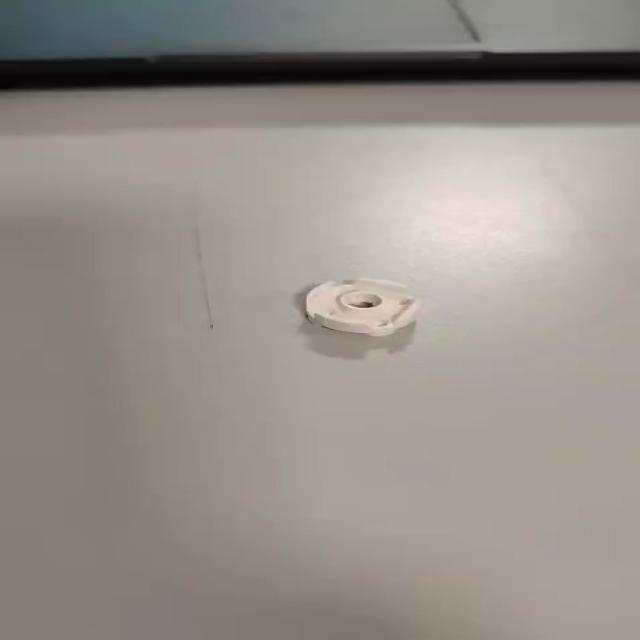S2x2x0: (302, 276, 421, 336)
